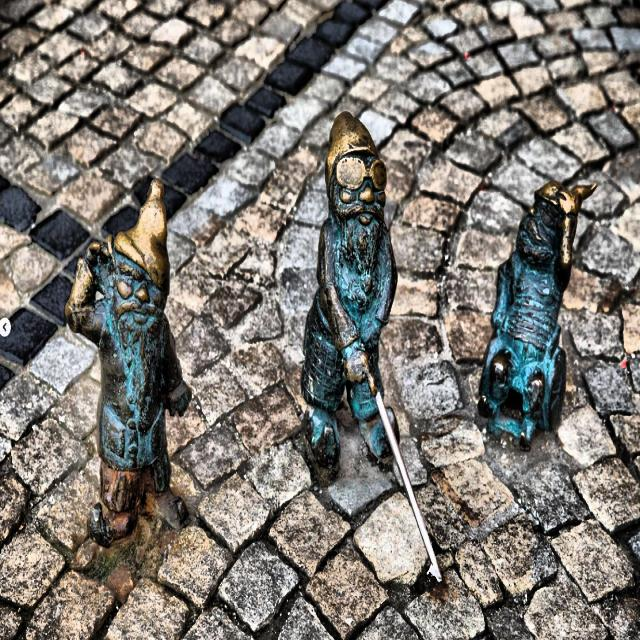Gluchak: (65, 181, 193, 550)
Slepak: (303, 114, 444, 582)
W-Skers: (480, 182, 596, 441)
